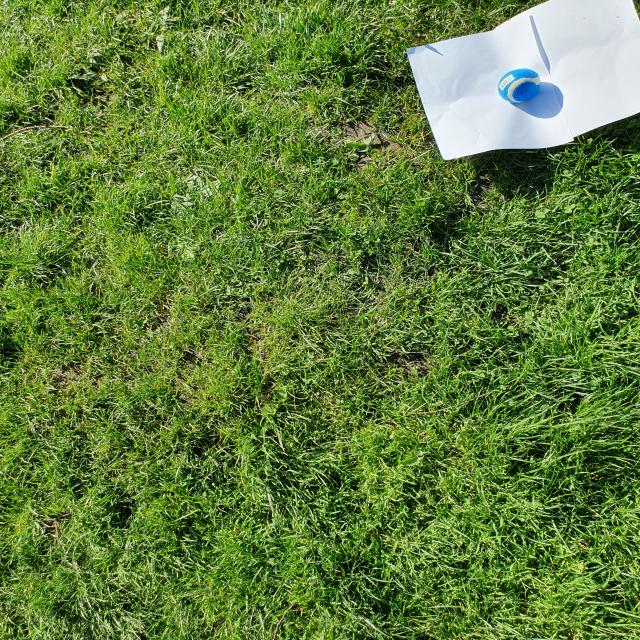blue: (498, 68, 541, 103)
